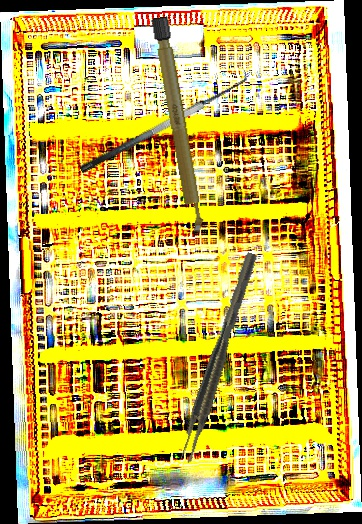Scalpel Handle: (150, 16, 206, 236)
Spatula Surgical: (71, 65, 254, 174)
Tissue Forceps: (175, 251, 264, 465)
